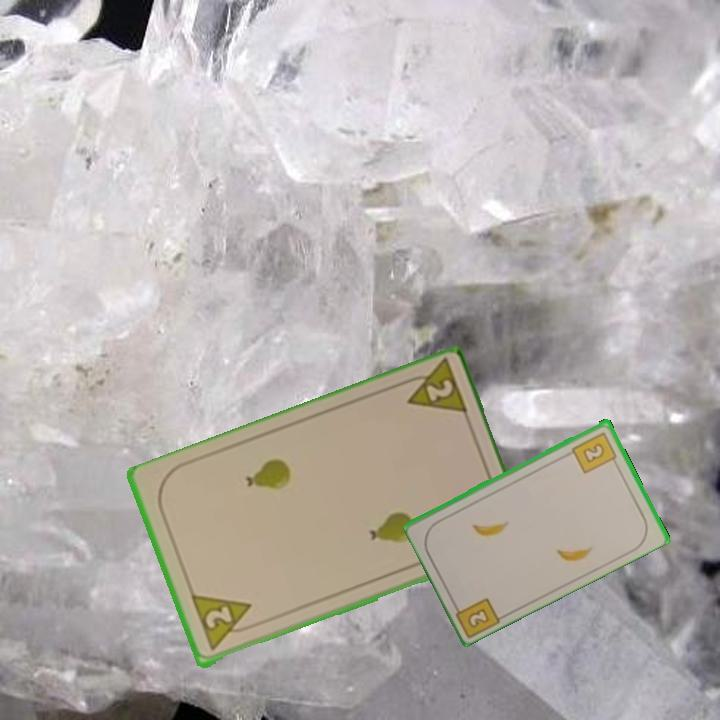2b: (449, 594, 504, 639), (569, 428, 620, 476)
2p: (395, 358, 471, 421), (187, 592, 260, 654)
